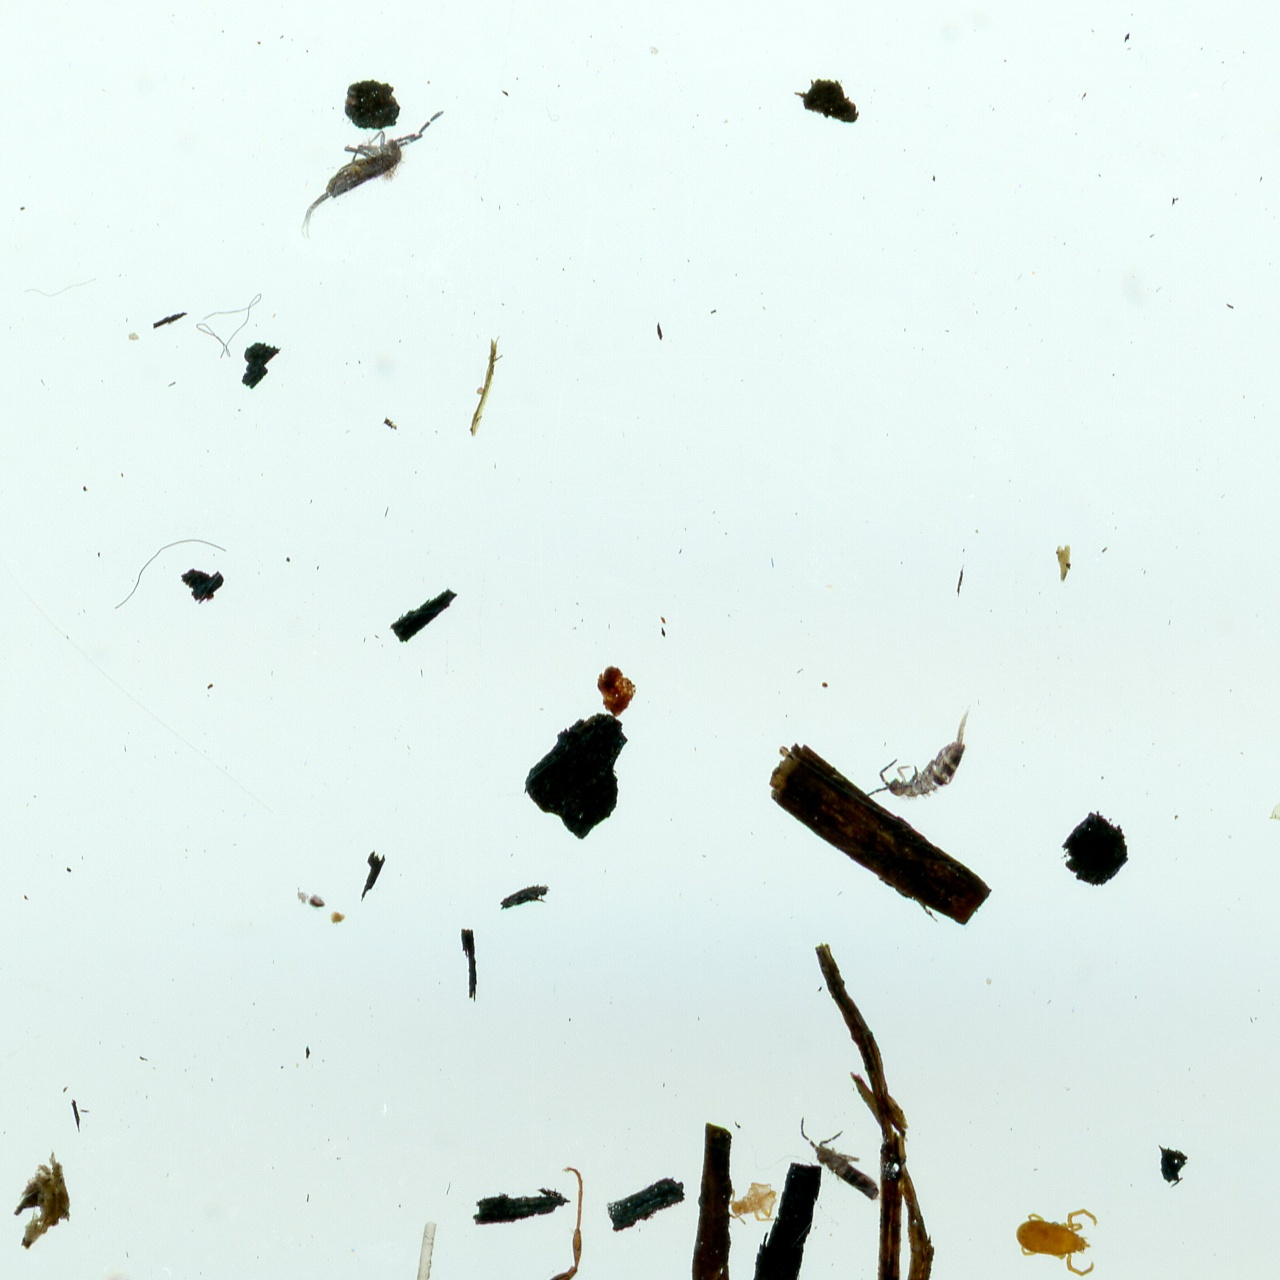arthropod: (270, 82, 467, 250), (384, 1165, 617, 1280), (847, 699, 990, 813), (784, 1098, 900, 1220), (669, 1244, 865, 1280), (1012, 1206, 1099, 1280), (727, 1179, 781, 1226)
